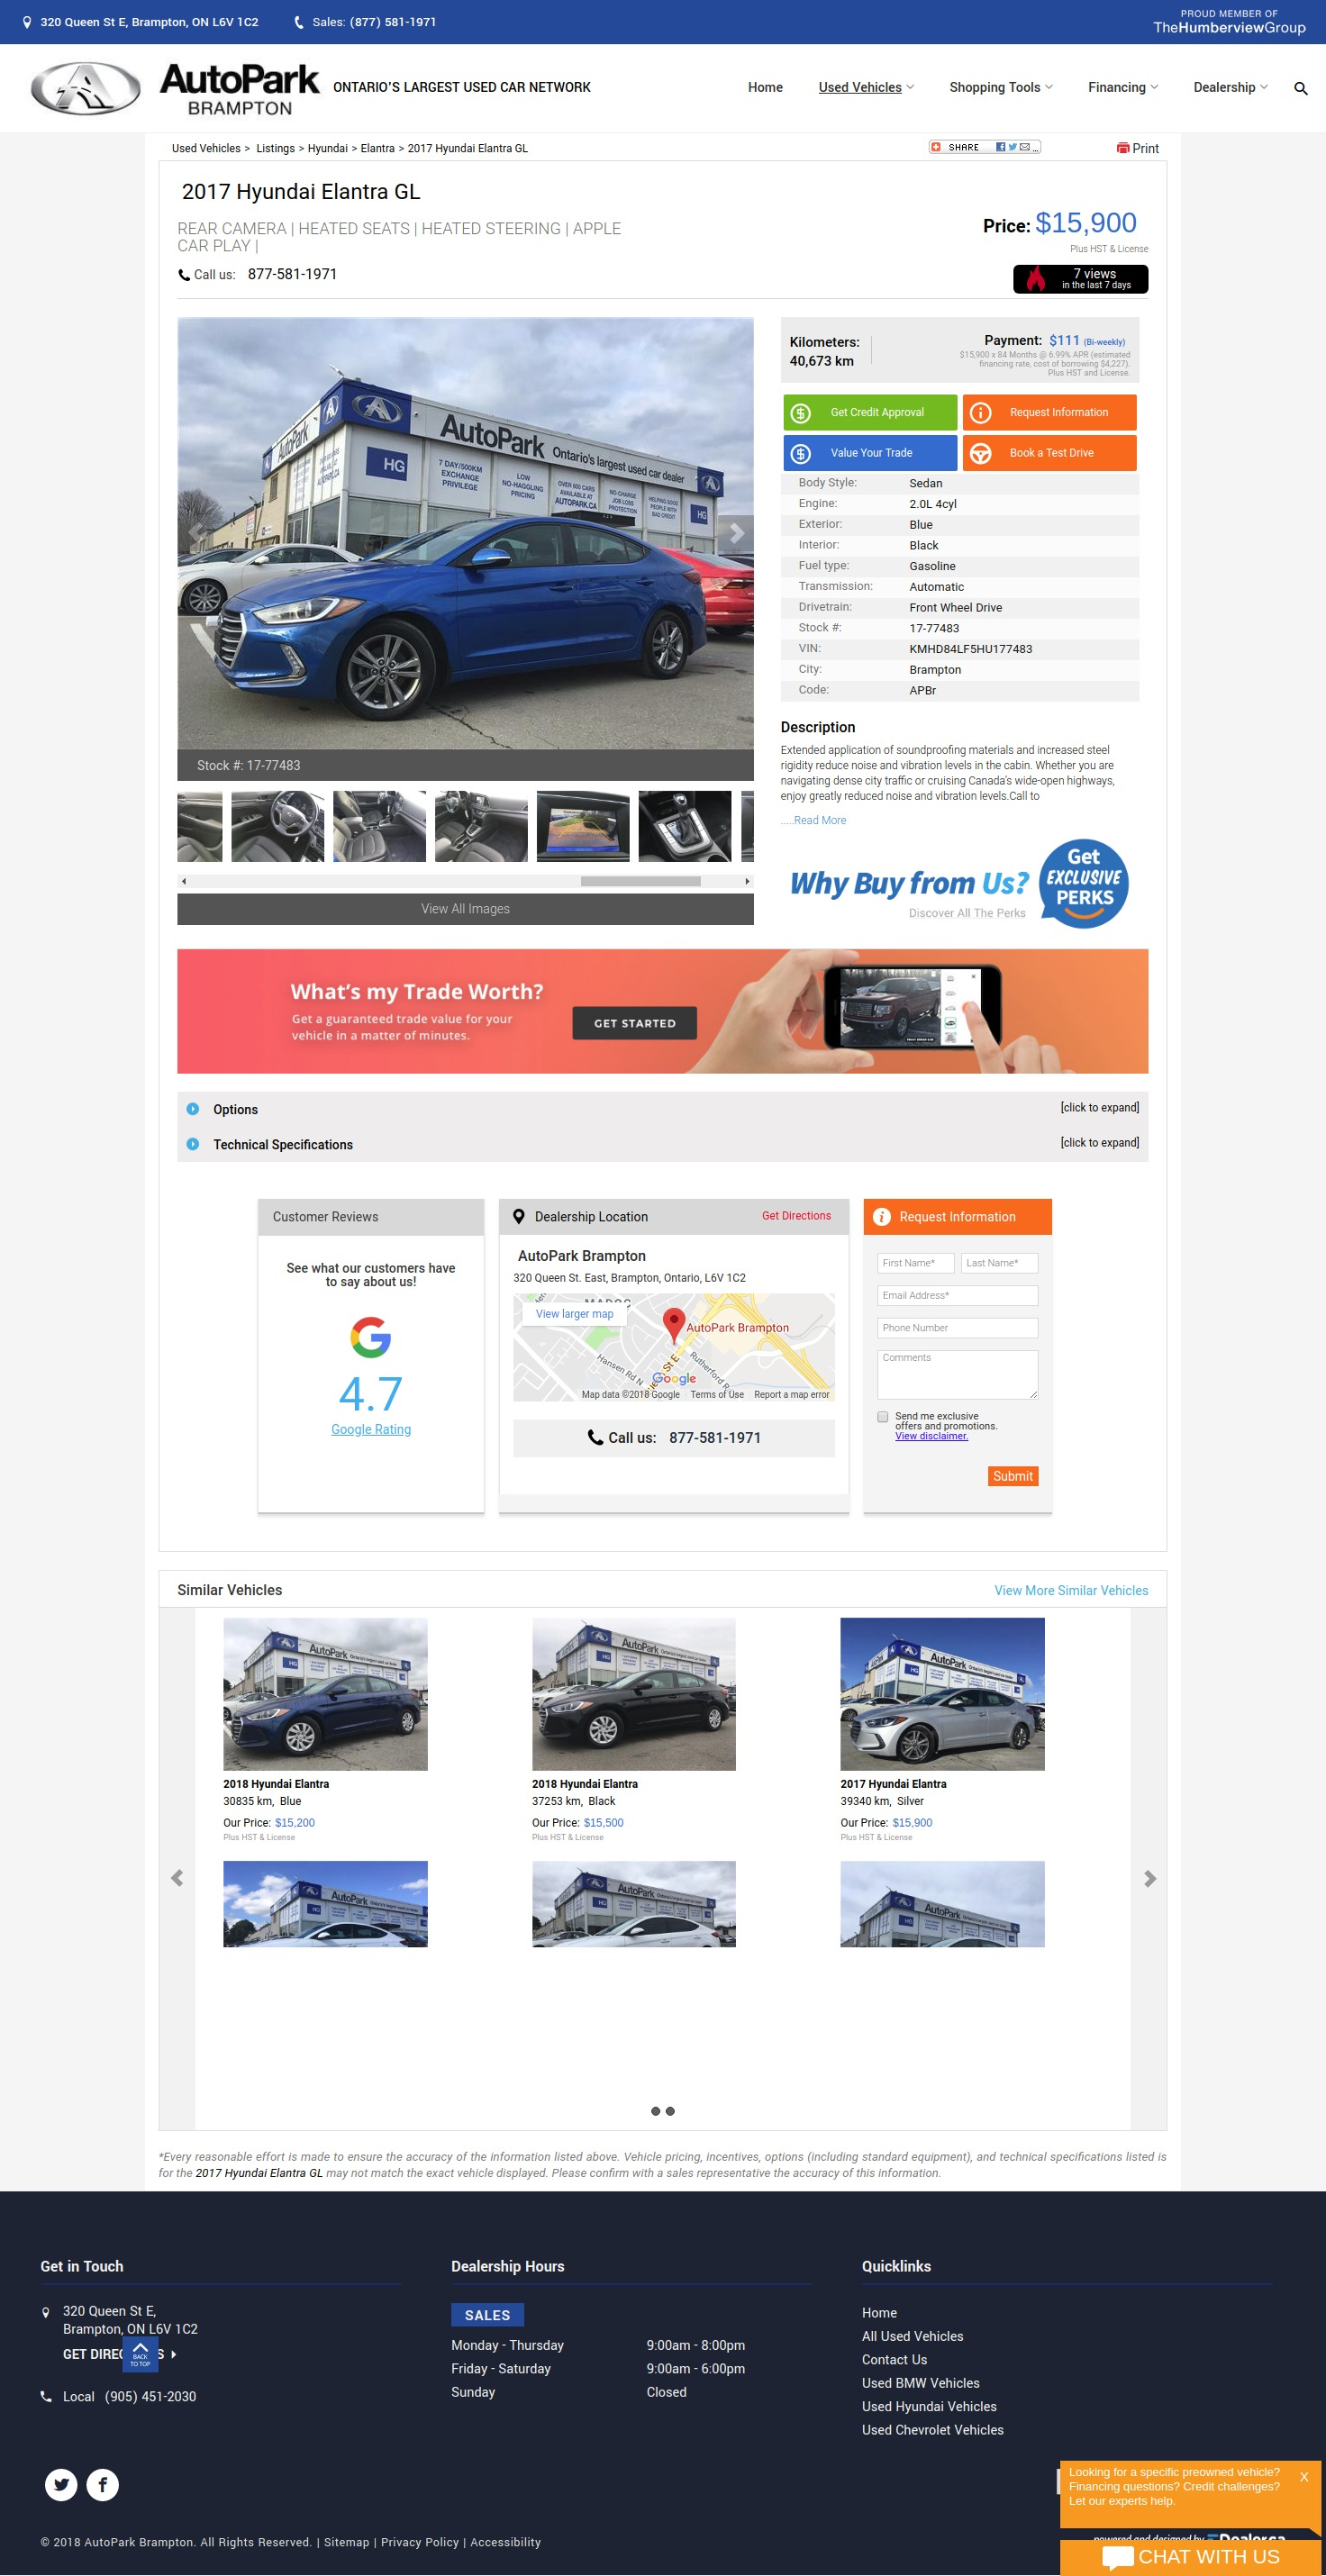car: (746, 877, 751, 886)
